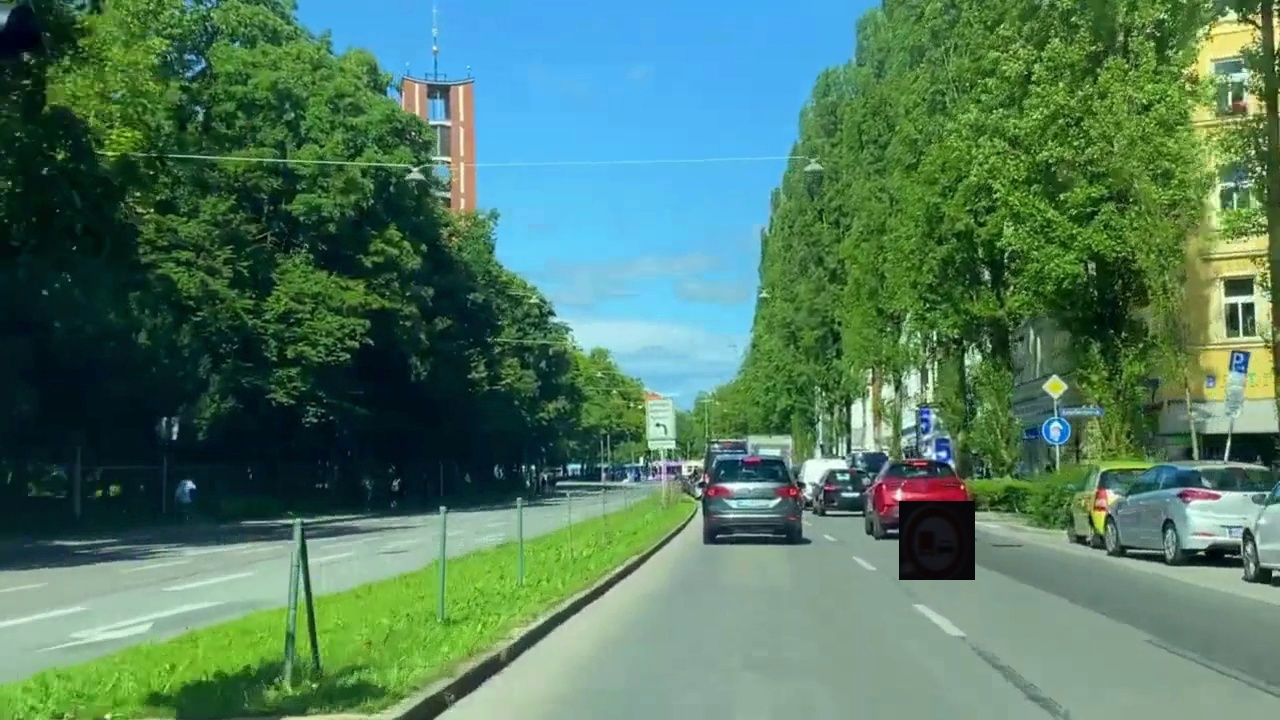No pass >3.5t: (899, 501, 975, 580)
